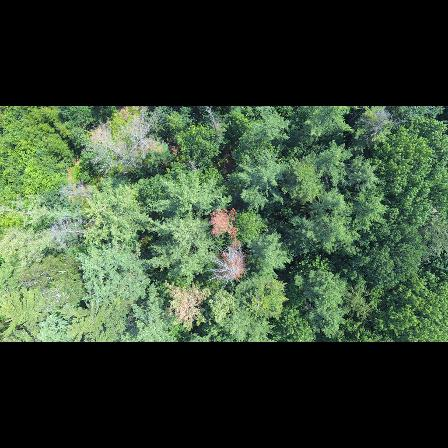Dead: (206, 241, 249, 287), (90, 132, 133, 173), (360, 108, 401, 143), (38, 215, 90, 242), (123, 120, 157, 154), (198, 106, 223, 134)
